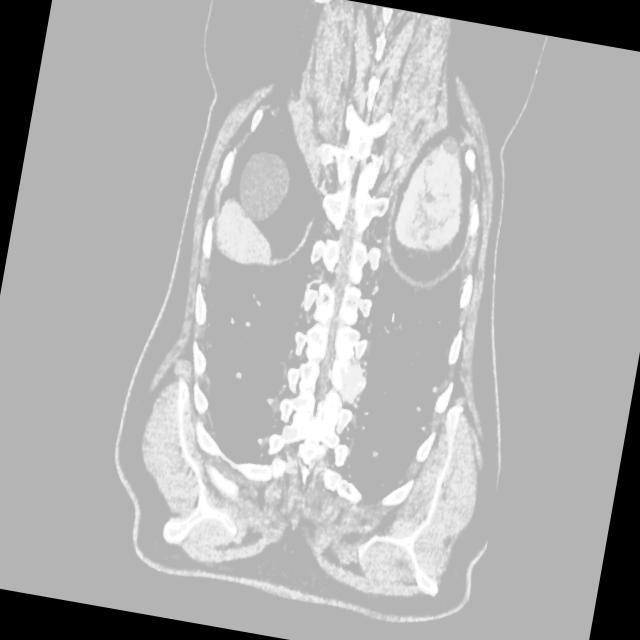TUMOR: (146, 41, 588, 388)
